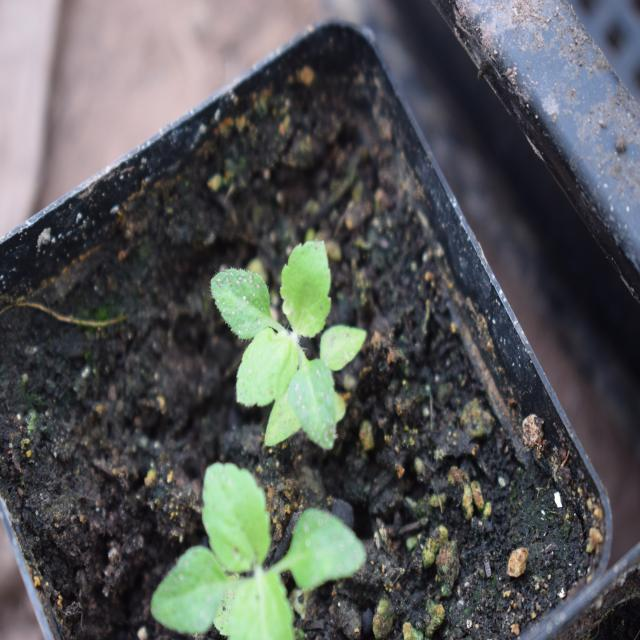billygoat_weed: (150, 451, 345, 638), (214, 233, 358, 481)
